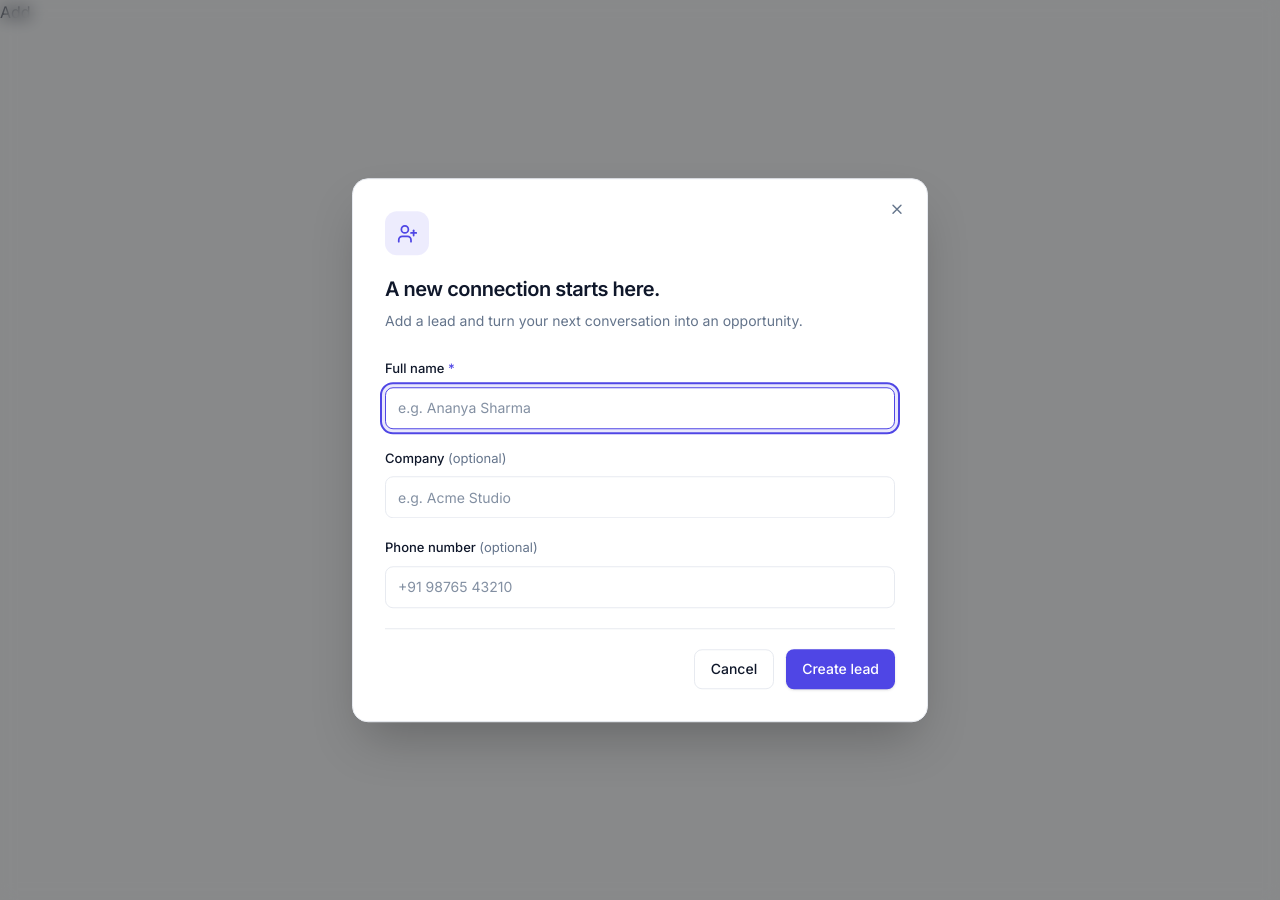
Test case: accessible lead creation form › prevents empty submission and shows a field error
The width and height of the screenshot is (1280, 900).
Click the button "Create lead": (841, 669) [786, 649, 895, 689]
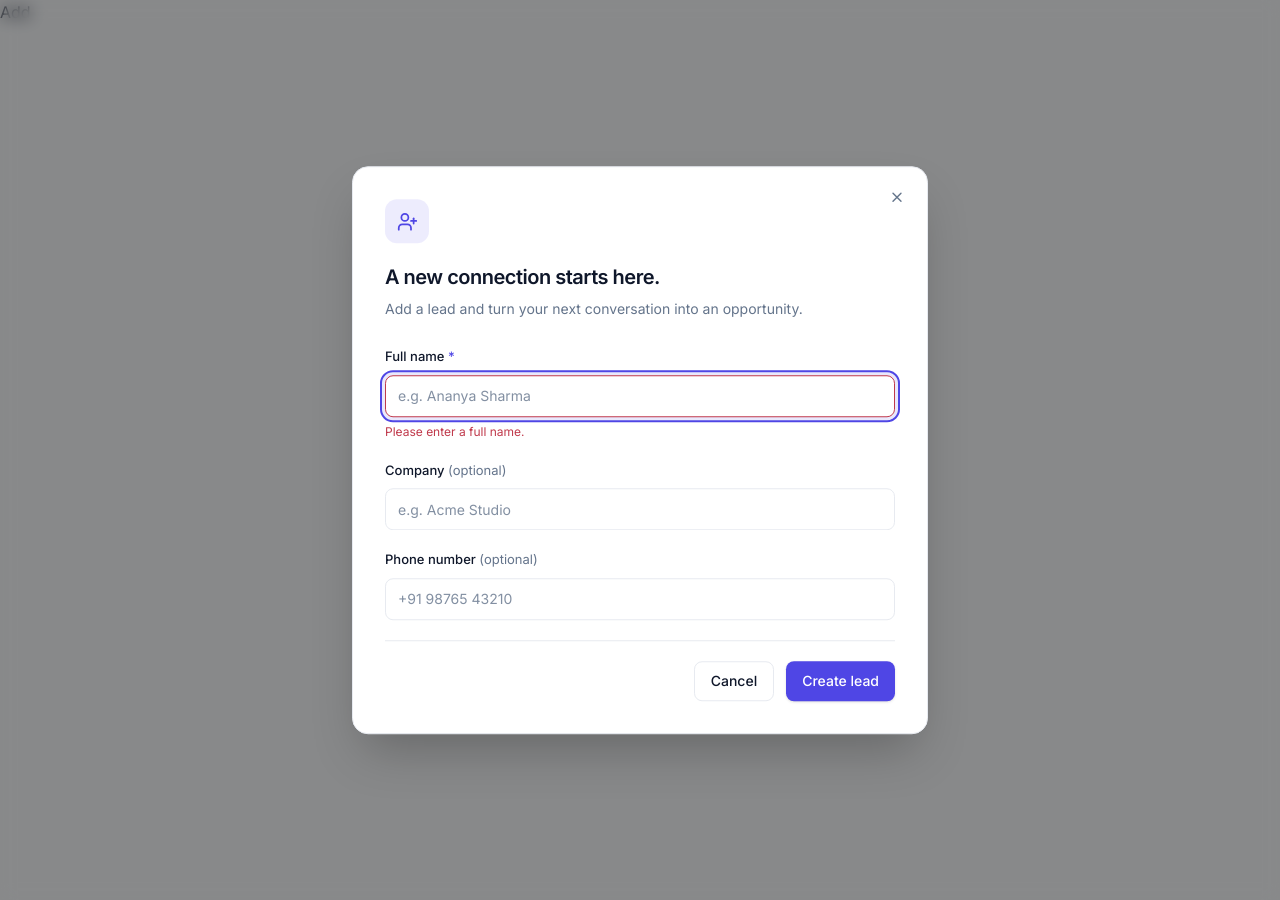
expect the text "Please enter a full name." is shown: met, box [385, 424, 524, 439]
